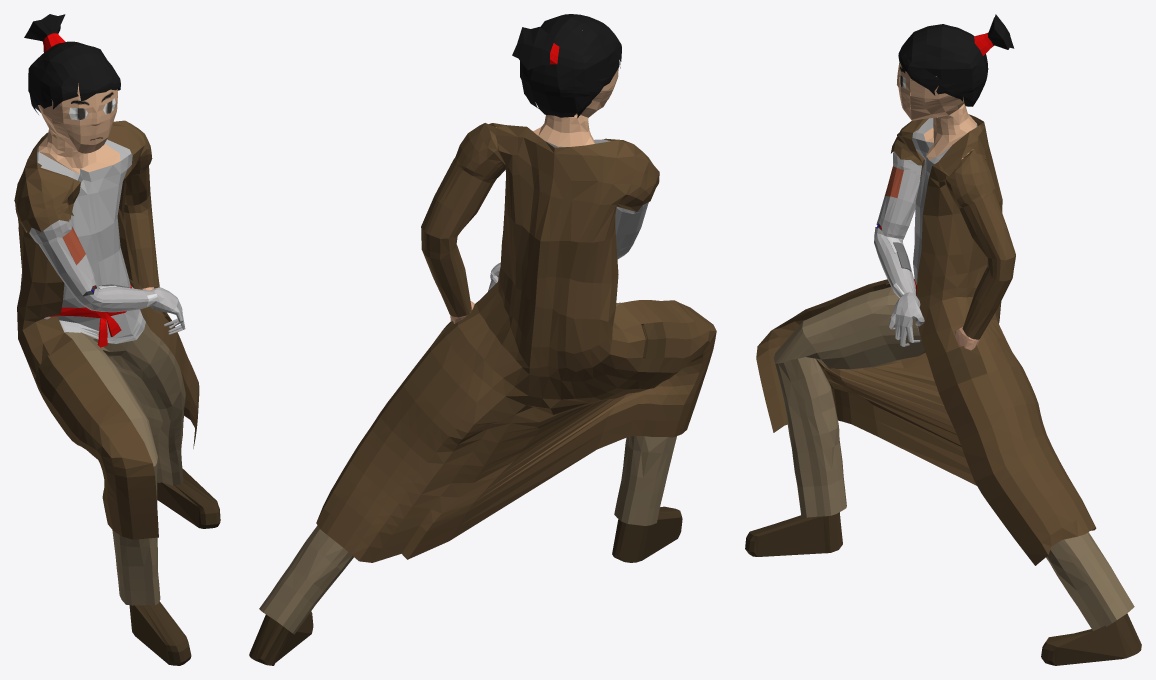
The model's file is One_RL_000014.obj.
3 renders of one model, left to right at view 1: azimuth 30°, elevation 25°; view 2: azimuth 150°, elevation 25°; view 3: azimuth 270°, elevation 25°, orthographic. The views are drawn at different scales.
Visible parts, largest first — view 1: Hair_Cube.004; view 2: Hair_Cube.004; view 3: Hair_Cube.004.
Boxes of the visible parts, x1,y1,x2,y2 form: Hair_Cube.004: (14, 14, 220, 665); Hair_Cube.004: (249, 14, 716, 665); Hair_Cube.004: (745, 14, 1141, 665).
Bounding box in the file's own units: 1.66 × 3.48 × 2.25.
